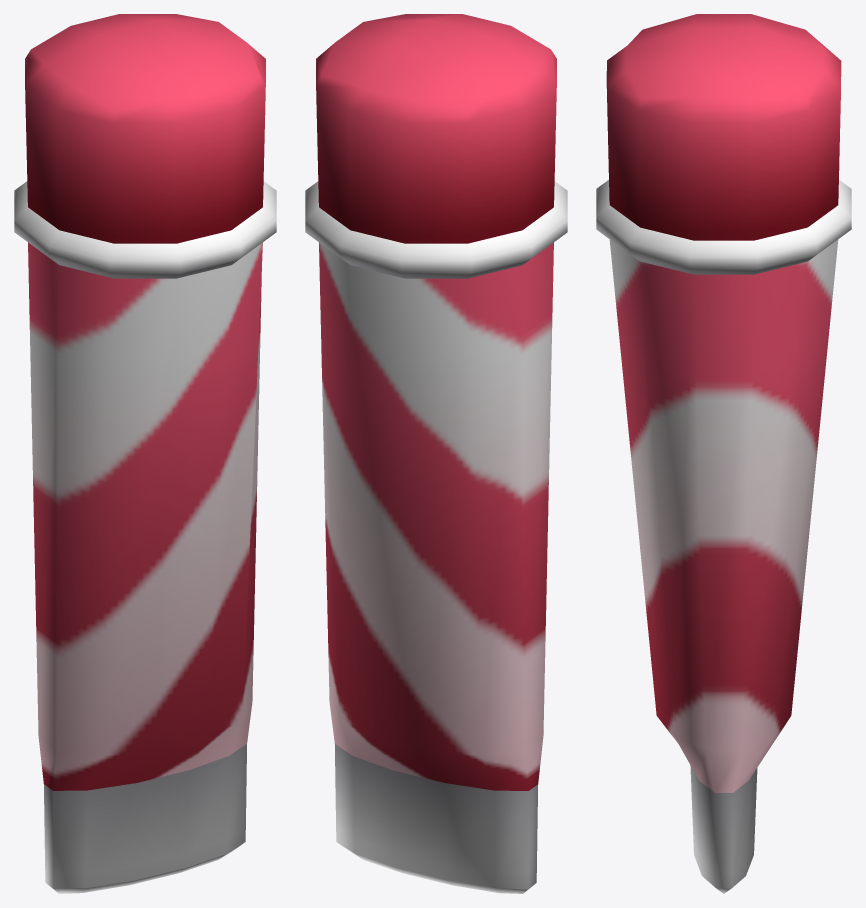
File: m_PushPop07.fbx
3 views of the same model, side by side, from view 1: azimuth 30°, elevation 25°; view 2: azimuth 150°, elevation 25°; view 3: azimuth 270°, elevation 25° (orthographic). The views are drawn at different scales.
Visible parts, largest first — view 1: m_PushPop07; view 2: m_PushPop07; view 3: m_PushPop07.
Boxes of the visible parts, x1,y1,x2,y2 form: m_PushPop07: (14, 14, 276, 893); m_PushPop07: (305, 14, 567, 893); m_PushPop07: (596, 14, 851, 893).
Bounding box in the file's own units: 6.5 × 22.79 × 6.5.
